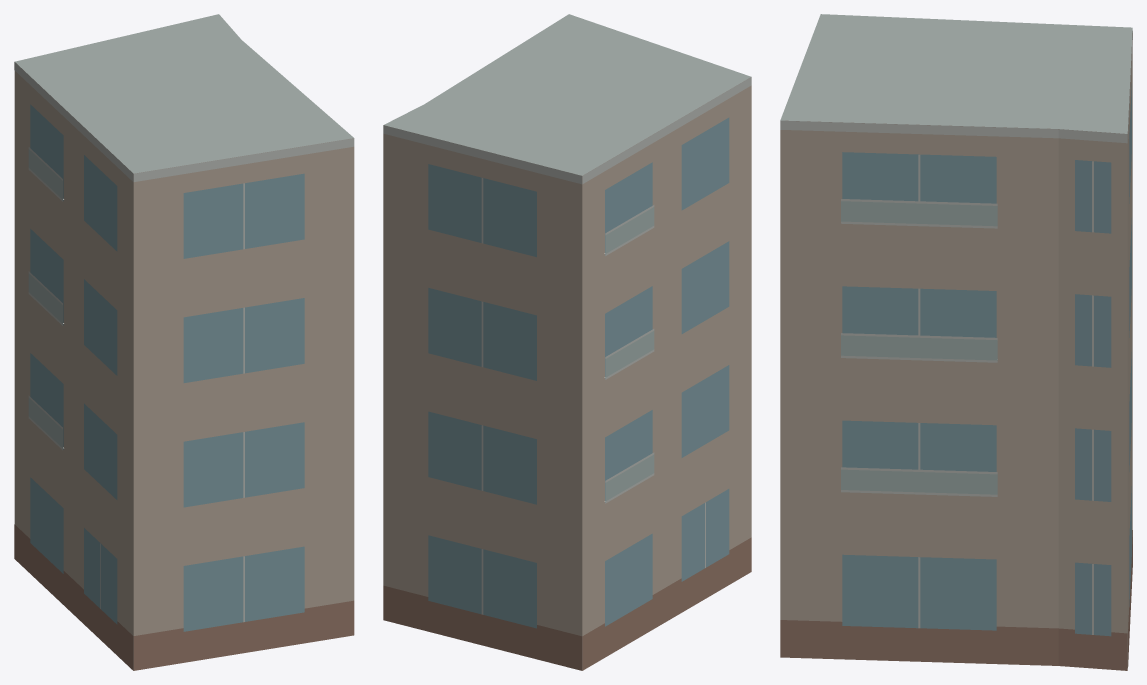
The model's file is survey-upis-32463330.glb.
3 views of the same model, side by side, from view 1: azimuth 30°, elevation 25°; view 2: azimuth 150°, elevation 25°; view 3: azimuth 270°, elevation 25° (orthographic). The views are drawn at different scales.
Visible parts, largest first — view 1: survey-upis-32463330.tmp; view 2: survey-upis-32463330.tmp; view 3: survey-upis-32463330.tmp.
Part boxes in pixels (x1=…): survey-upis-32463330.tmp: x1=14, y1=14, x2=354, y2=670; survey-upis-32463330.tmp: x1=383, y1=14, x2=751, y2=670; survey-upis-32463330.tmp: x1=780, y1=14, x2=1132, y2=670.
Size of the model in its own units: 6.76 by 14.09 by 8.4.
